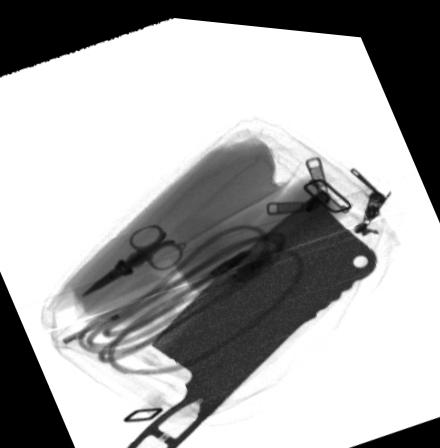Knife: (125, 186, 378, 448)
Scissors: (81, 222, 184, 296)
